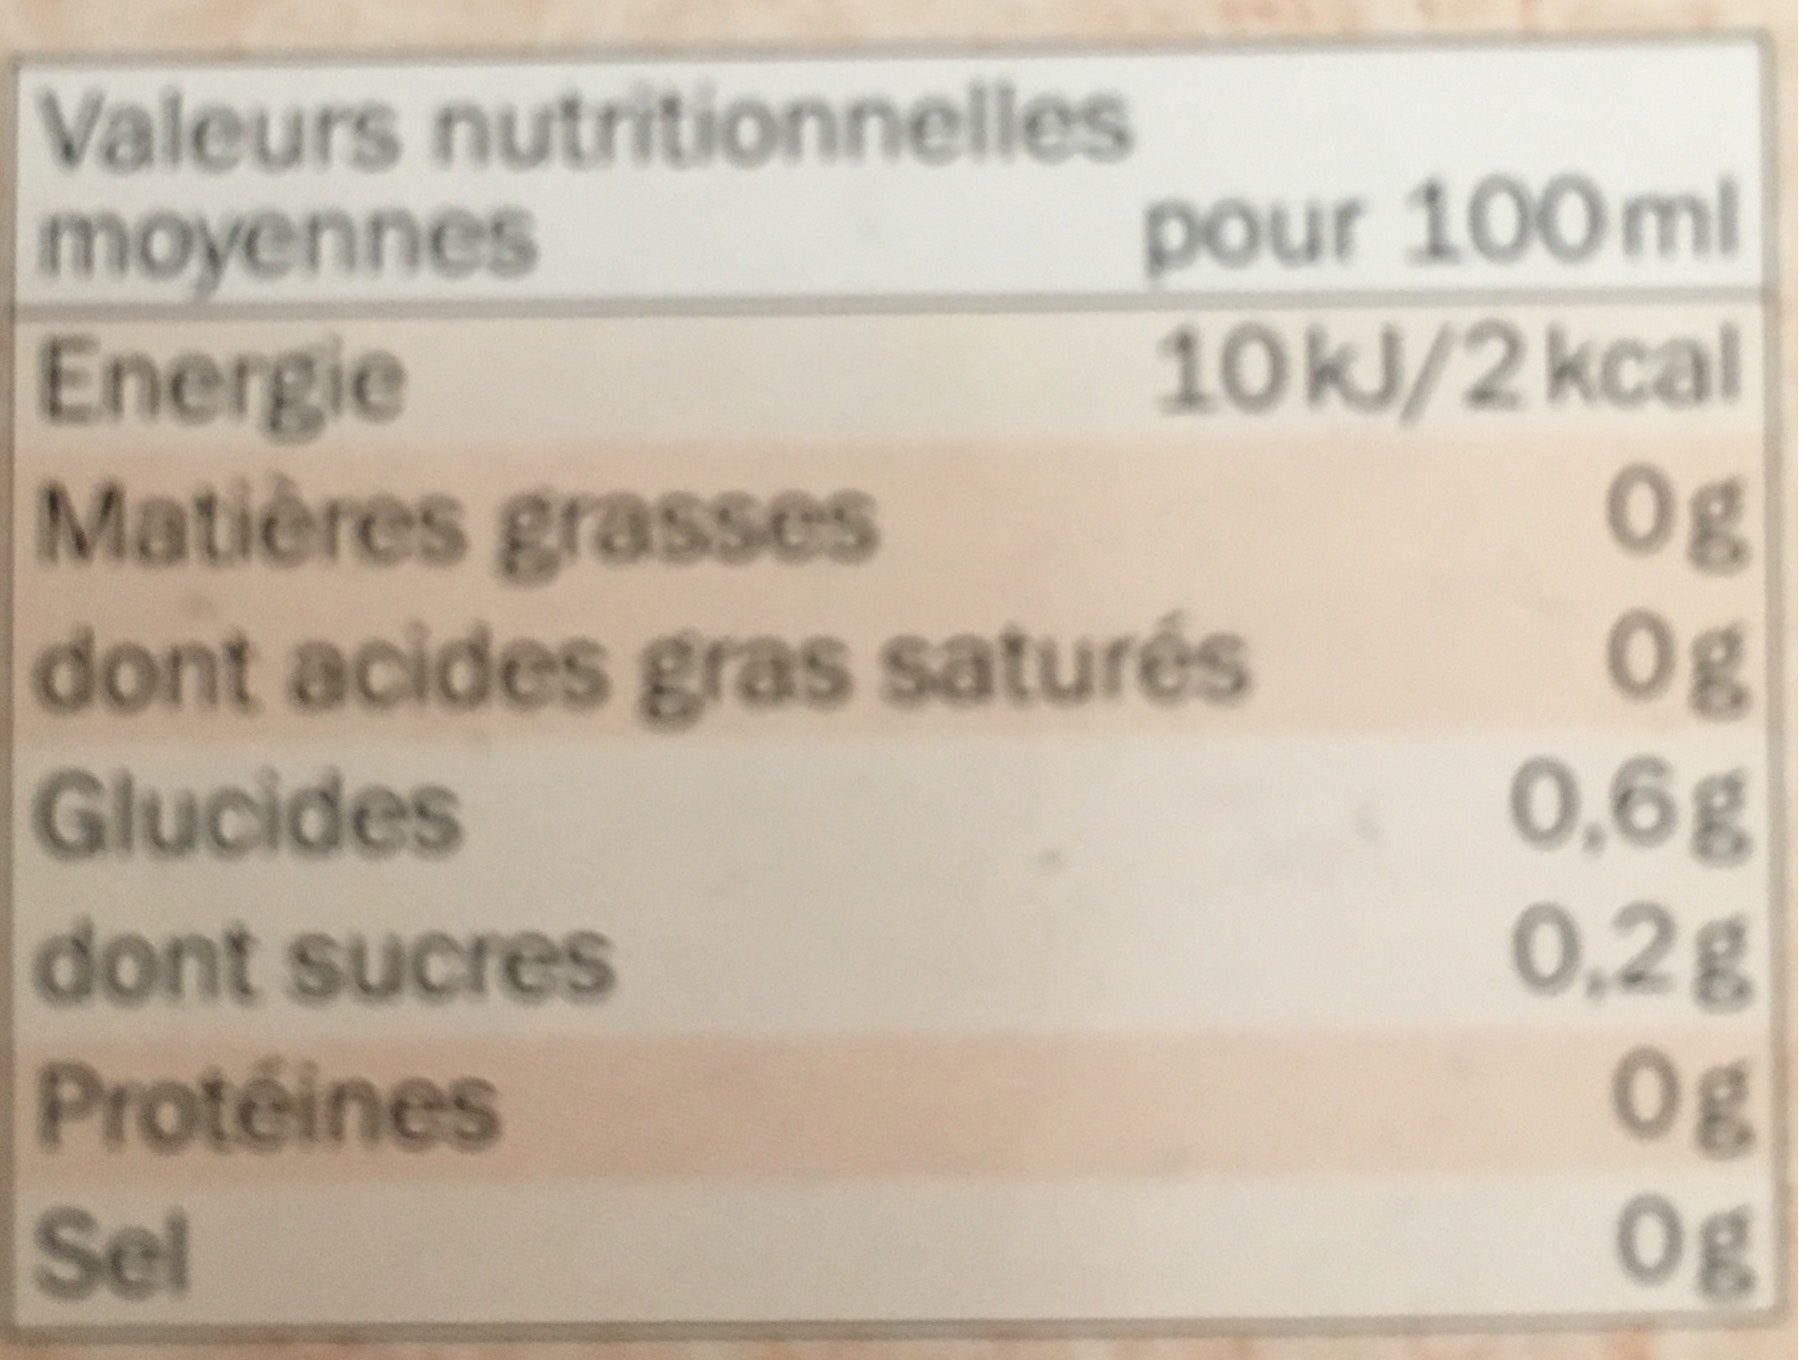column: (9, 59, 1150, 1324), (1147, 40, 1770, 1331)
table: (13, 61, 1786, 1329)
